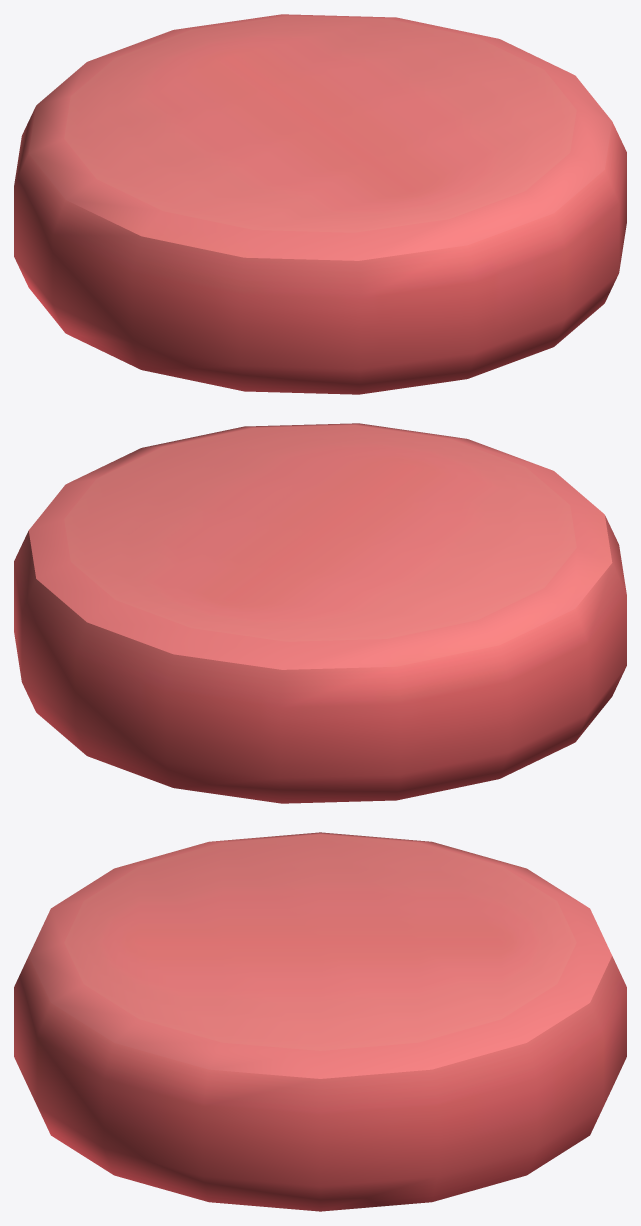
The model's file is kaykit-restaurant-bits-food-ingredient-burger-uncooked.glb.
3 views of the same model, one above another, from view 1: azimuth 30°, elevation 25°; view 2: azimuth 150°, elevation 25°; view 3: azimuth 270°, elevation 25° (orthographic).
Parts seen in each view (by area): view 1: food_ingredient_burger_uncooked; view 2: food_ingredient_burger_uncooked; view 3: food_ingredient_burger_uncooked.
Boxes of the visible parts, x1,y1,x2,y2 form: food_ingredient_burger_uncooked: (14, 14, 626, 394); food_ingredient_burger_uncooked: (14, 423, 626, 803); food_ingredient_burger_uncooked: (14, 832, 626, 1211).
Size of the model in its own units: 0.7 by 0.2 by 0.7.
1 material, 1 textured.
